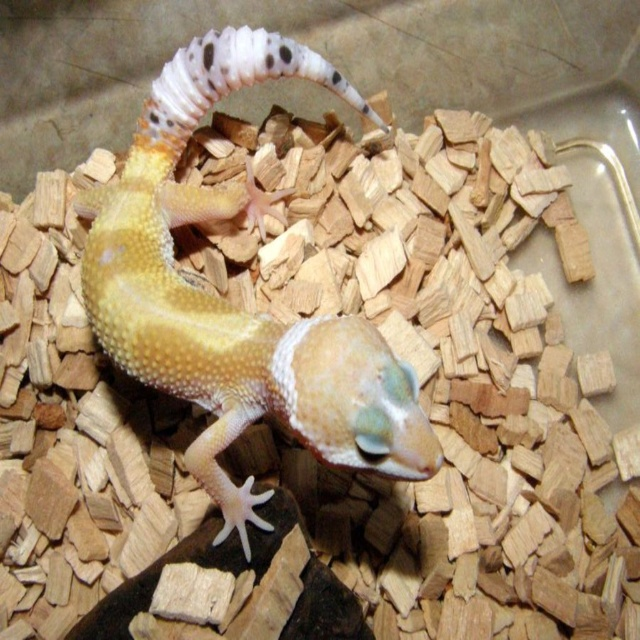Lizard: (41, 67, 487, 625)
